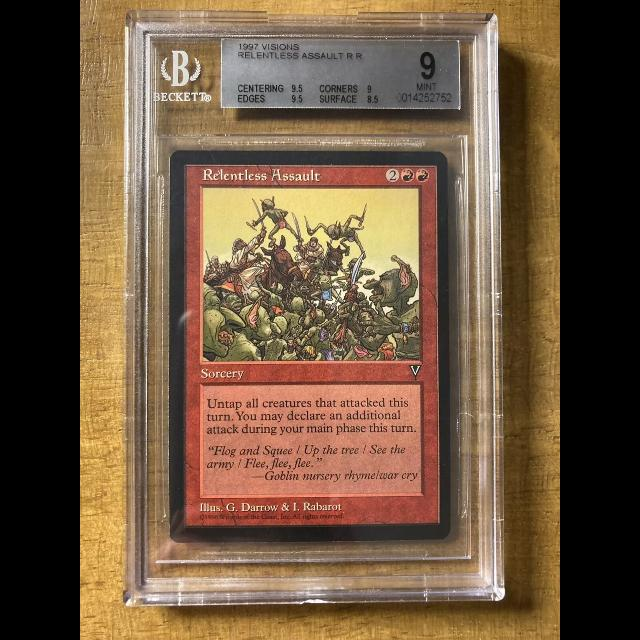bgs_label: (221, 37, 460, 109)
bgs_slab: (122, 7, 506, 606)
card: (169, 149, 452, 544)
